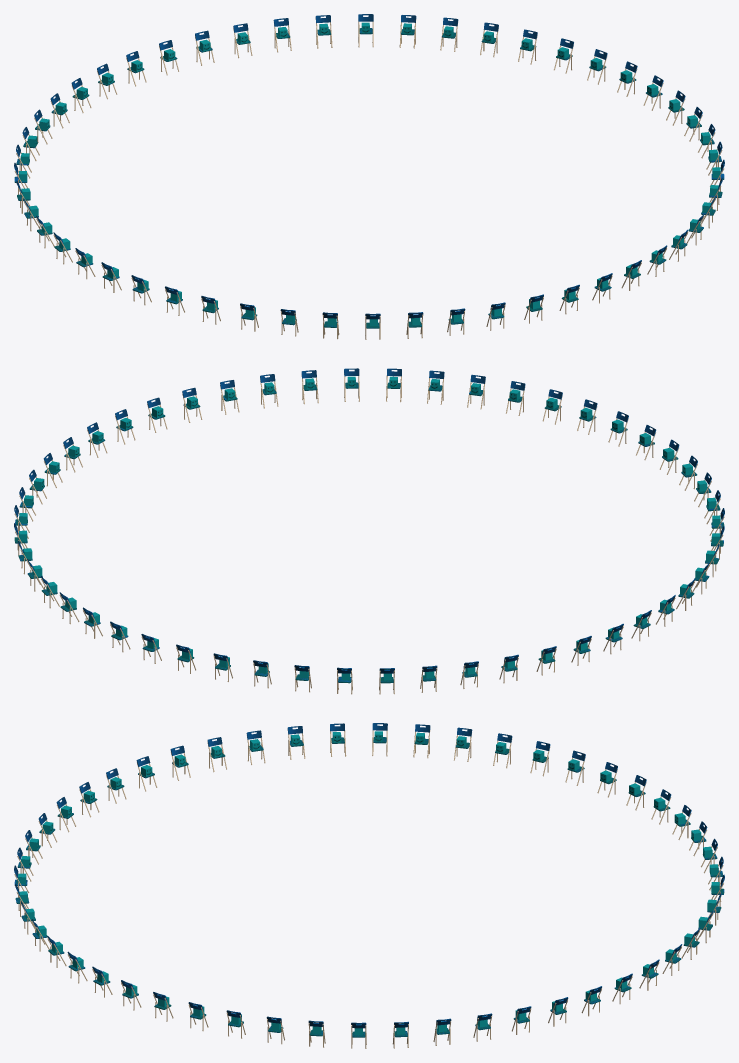
The model's file is SM_Cubes_Circle_01.fbx.
The picture shows the model from 3 angles, top to bottom: view 1: azimuth 30°, elevation 25°; view 2: azimuth 150°, elevation 25°; view 3: azimuth 270°, elevation 25°; orthographic projection.
Visible parts, largest first — view 1: BézierCircle.019, BézierCircle.020; view 2: BézierCircle.019, BézierCircle.020; view 3: BézierCircle.019, BézierCircle.020.
Part boxes in pixels (x1,y1,x2,y2): BézierCircle.019: [14, 14, 724, 339]; BézierCircle.020: [19, 22, 720, 326]; BézierCircle.019: [14, 368, 724, 694]; BézierCircle.020: [19, 376, 720, 680]; BézierCircle.019: [14, 723, 724, 1048]; BézierCircle.020: [18, 731, 719, 1035].
Bounding box in the file's own units: 7237 × 310 × 7237.
Materials: 2 (2 with a texture image).
